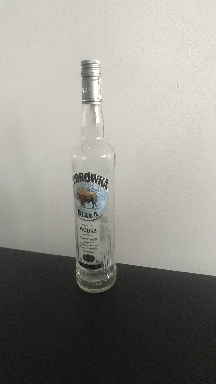butelka: (69, 57, 118, 295)
